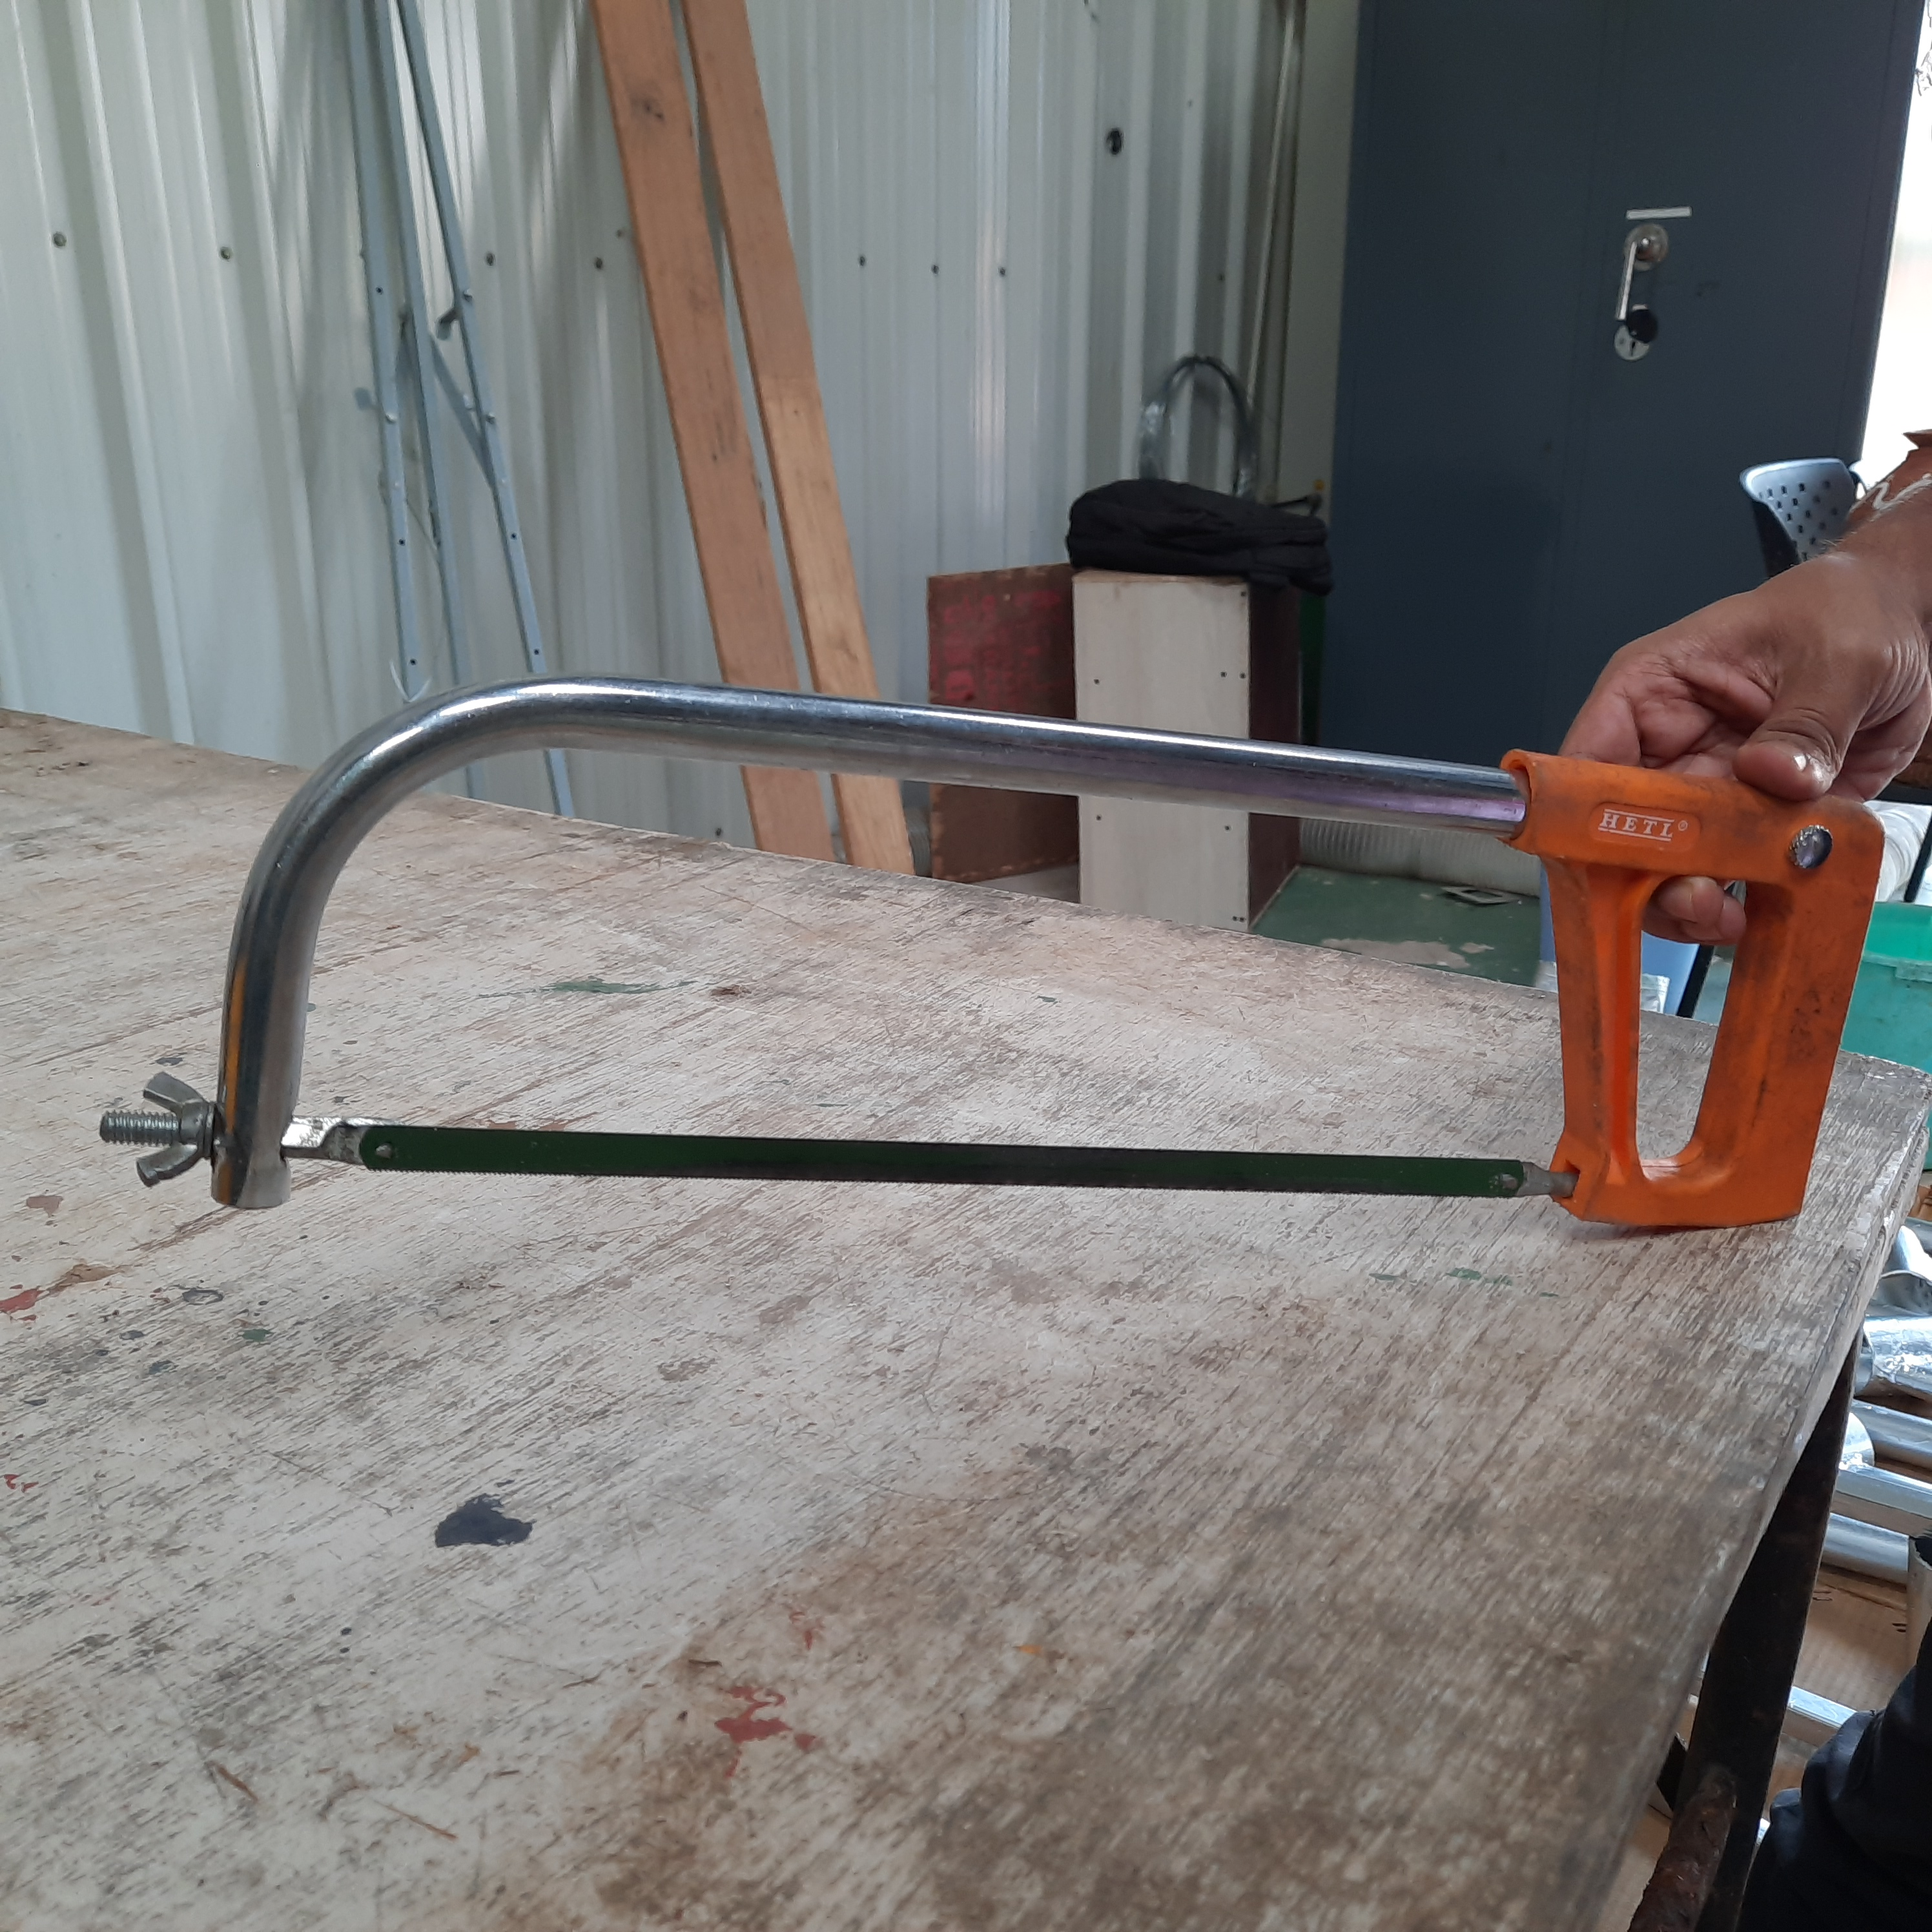Hexaframe: (81, 637, 1932, 1300)
